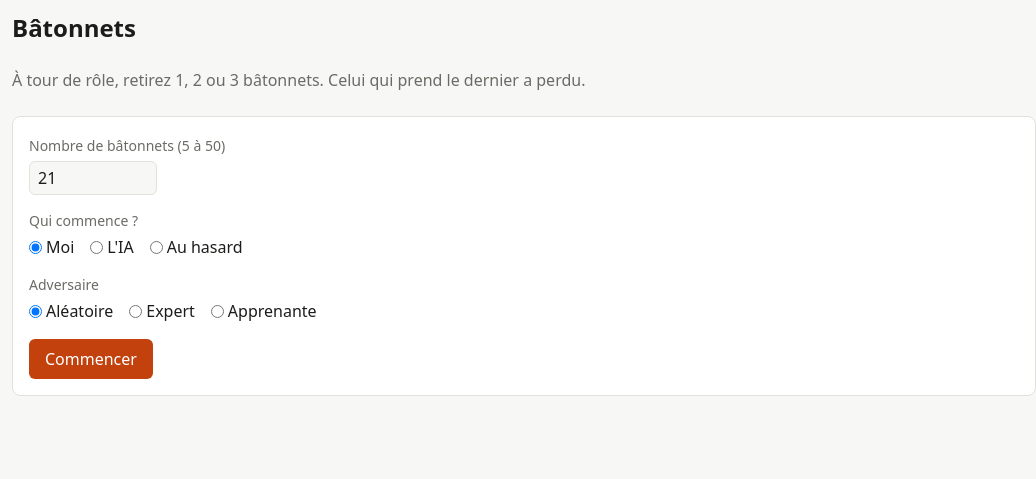
Test: Sticks page › surfaces backend errors
Click the button "Commencer" at (91, 359), box left=29, top=339, right=153, bottom=379
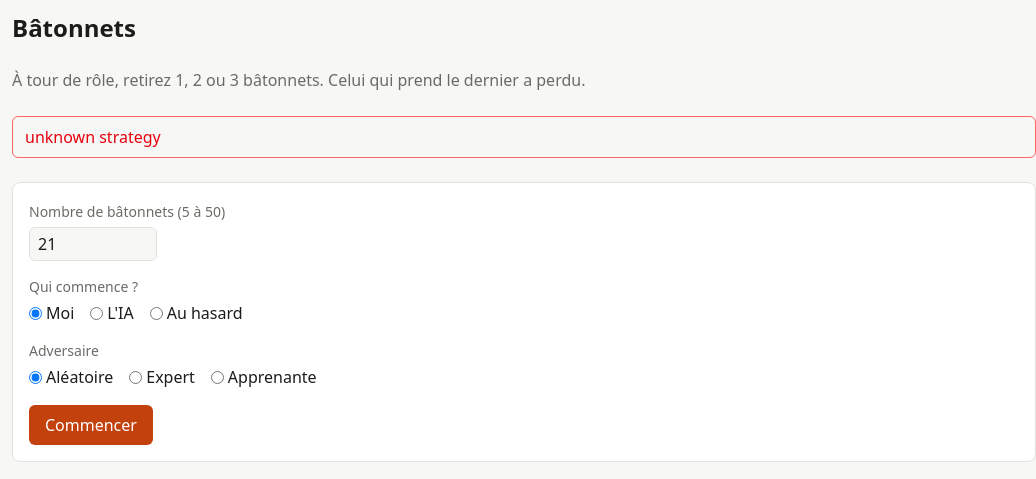
Expected: the message reads "unknown strategy", left=25, top=126, right=161, bottom=148
